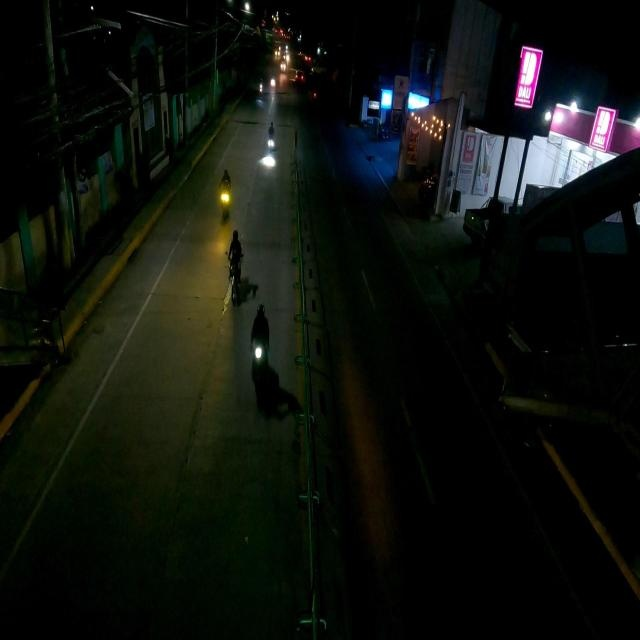Motorcycle: (250, 304, 269, 409), (228, 228, 244, 304), (220, 169, 230, 220), (266, 119, 276, 159)
